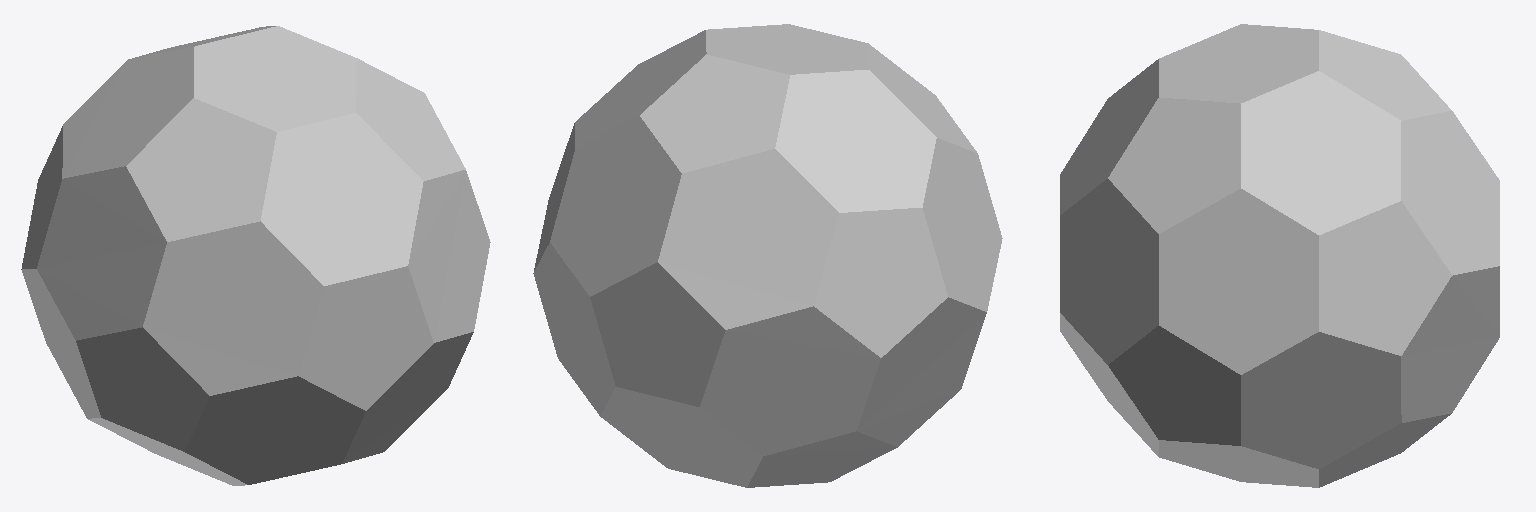
File: bucky.obj
3 views of the same model, side by side, from view 1: azimuth 30°, elevation 25°; view 2: azimuth 150°, elevation 25°; view 3: azimuth 270°, elevation 25° (orthographic).
Parts seen in each view (by area): view 1: Platonic; view 2: Platonic; view 3: Platonic.
Boxes of the visible parts, x1=… form: Platonic: x1=21, y1=26, x2=490, y2=485; Platonic: x1=533, y1=24, x2=1002, y2=487; Platonic: x1=1060, y1=24, x2=1499, y2=487.
Bounding box in the file's own units: 193 × 189 × 184.